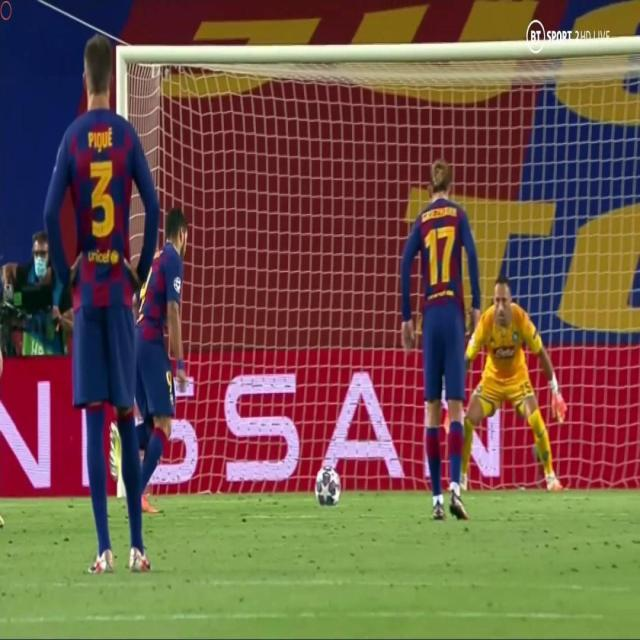ball: (314, 457, 346, 511)
goalkeeper: (448, 259, 571, 495)
player: (34, 13, 170, 572), (397, 138, 488, 510), (122, 192, 204, 534)
